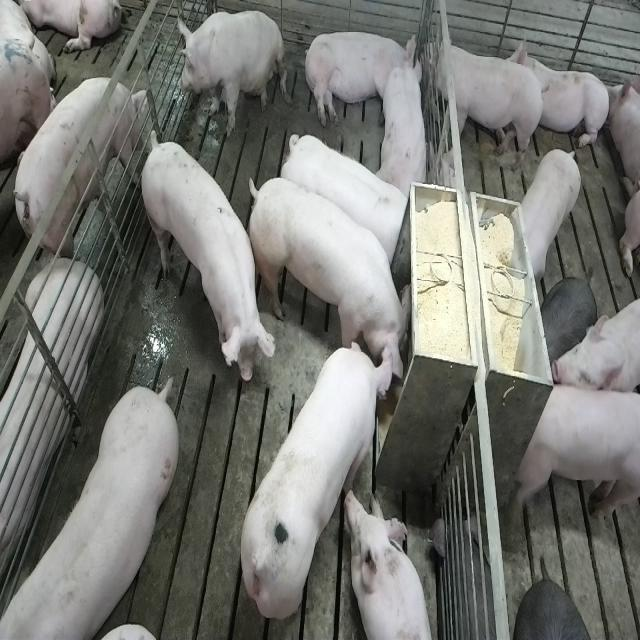Feeding: (238, 336, 398, 622), (252, 174, 418, 390)
Lateral_lying: (302, 28, 418, 128)
Sitting: (177, 7, 286, 138)
Standing: (0, 381, 176, 639), (137, 131, 272, 390), (8, 76, 142, 267), (510, 381, 638, 528), (424, 24, 546, 174), (280, 128, 410, 263), (514, 144, 584, 283), (539, 274, 599, 366)
Sternal_lying: (0, 260, 101, 598), (346, 487, 435, 640), (514, 33, 612, 156), (380, 46, 432, 200)
